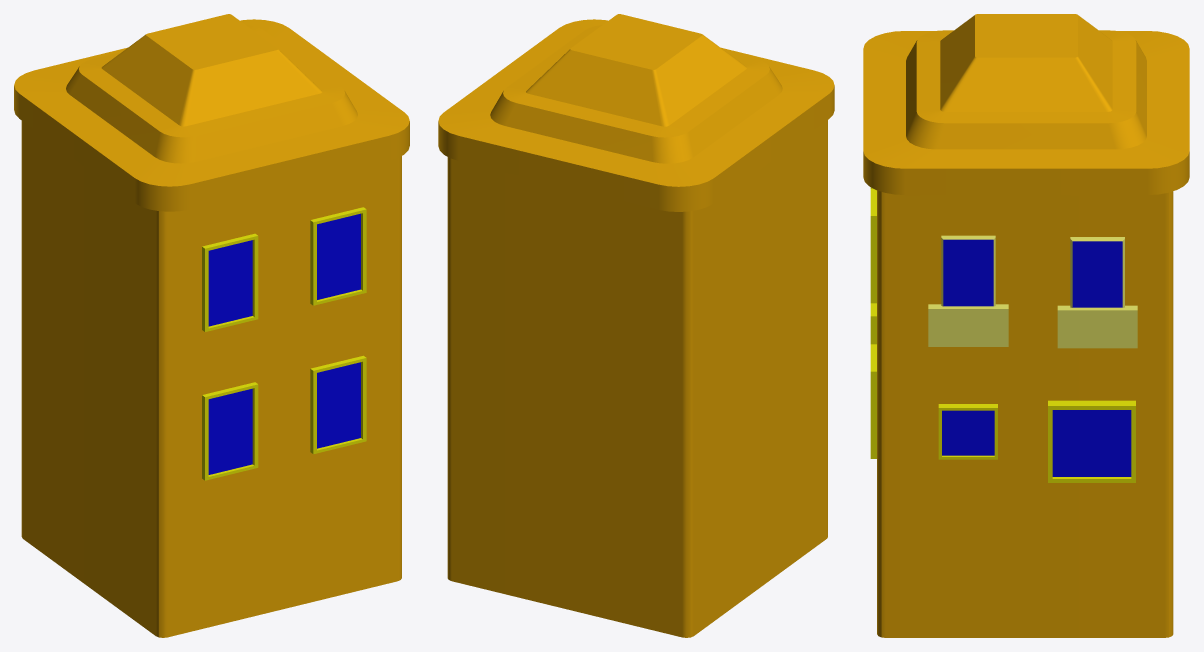
3 renders of one model, left to right at view 1: azimuth 30°, elevation 25°; view 2: azimuth 150°, elevation 25°; view 3: azimuth 270°, elevation 25°, orthographic. The views are drawn at different scales.
Parts seen in each view (by area): view 1: polySurface67, polySurface69, polySurface72, polySurface73, polySurface70, polySurface71; view 2: polySurface67, polySurface69; view 3: polySurface67, polySurface69, polySurface75, pCube56, pCube57, pCube58, pCube55, polySurface74, polySurface70, polySurface73.
Boxes of the visible parts, x1,y1,x2,y2 form: polySurface67: (21, 121, 401, 637); polySurface69: (14, 14, 409, 211); polySurface72: (202, 382, 258, 480); polySurface73: (310, 355, 366, 454); polySurface70: (310, 207, 366, 305); polySurface71: (202, 233, 258, 331); polySurface67: (447, 120, 827, 637); polySurface69: (438, 14, 834, 211); polySurface67: (877, 190, 1173, 637); polySurface69: (863, 14, 1189, 195); polySurface75: (1048, 400, 1135, 482); pCube56: (941, 235, 995, 306); pCube57: (1070, 237, 1124, 307); pCube58: (1057, 305, 1137, 348); pCube55: (928, 304, 1008, 346); polySurface74: (938, 404, 997, 459); polySurface70: (870, 188, 876, 303); polySurface73: (870, 344, 876, 458).
Size of the model in its own units: 3252 by 5937 by 3252.
